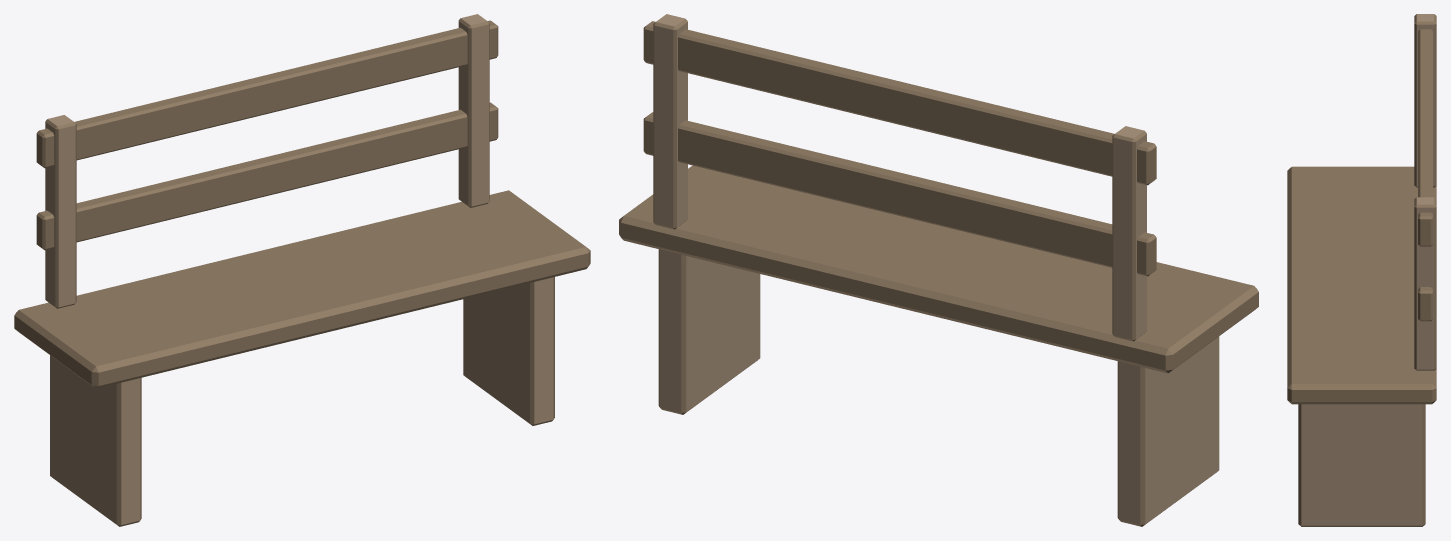
File: bench_2.glb
The picture shows the model from 3 angles, left to right: view 1: azimuth 30°, elevation 25°; view 2: azimuth 150°, elevation 25°; view 3: azimuth 270°, elevation 25°; orthographic projection. The views are drawn at different scales.
Parts seen in each view (by area): view 1: Bench_2; view 2: Bench_2; view 3: Bench_2.
Part boxes in pixels (bbox=[...]): Bench_2: bbox=[14, 14, 590, 526]; Bench_2: bbox=[619, 14, 1258, 526]; Bench_2: bbox=[1287, 14, 1436, 526].
Bounding box in the file's own units: 1.4 × 0.95 × 0.4.
